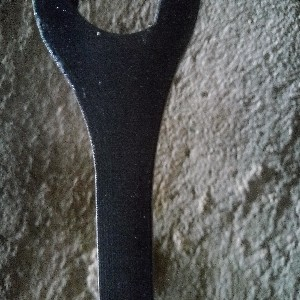spanner: (30, 1, 203, 300)
